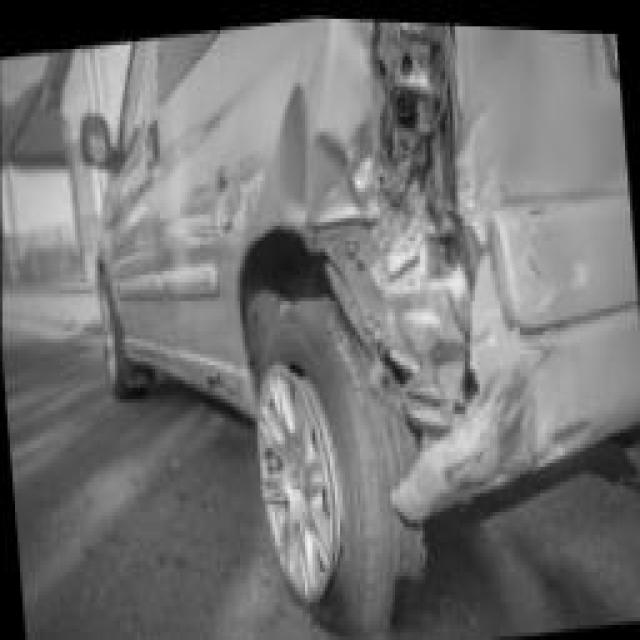Bumper: (332, 181, 614, 536)
Fender: (225, 64, 361, 243)
Light: (370, 15, 456, 252)
